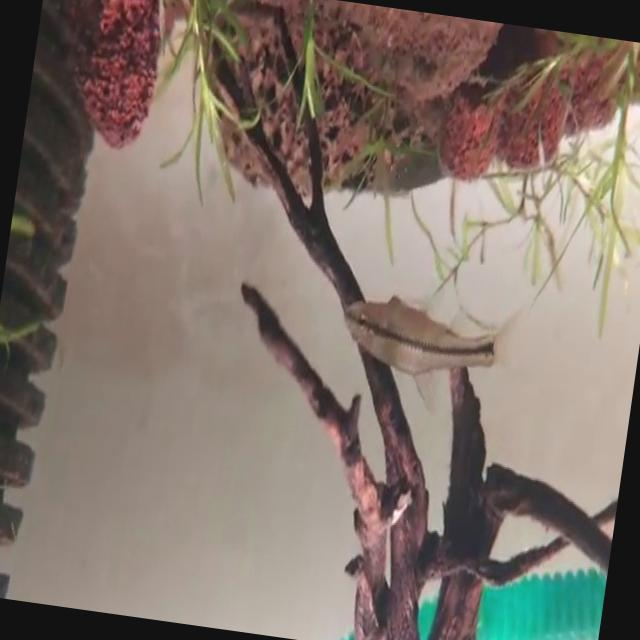Cakil Baligi: (329, 282, 523, 414)
